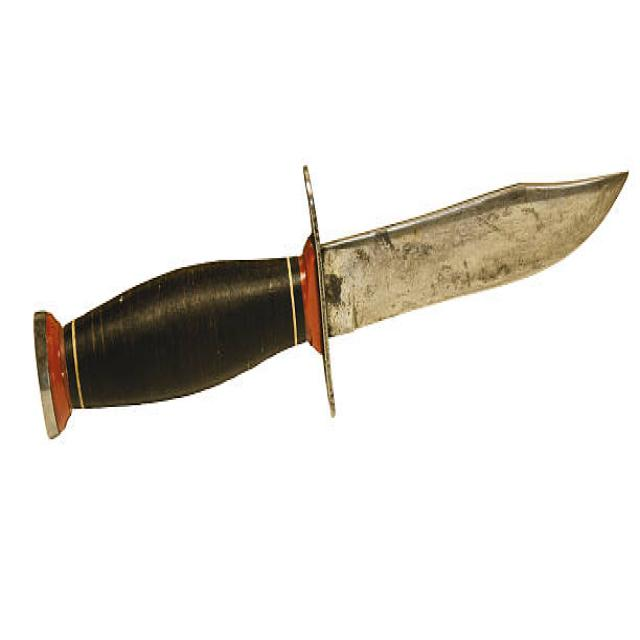knife: (29, 153, 633, 454)
